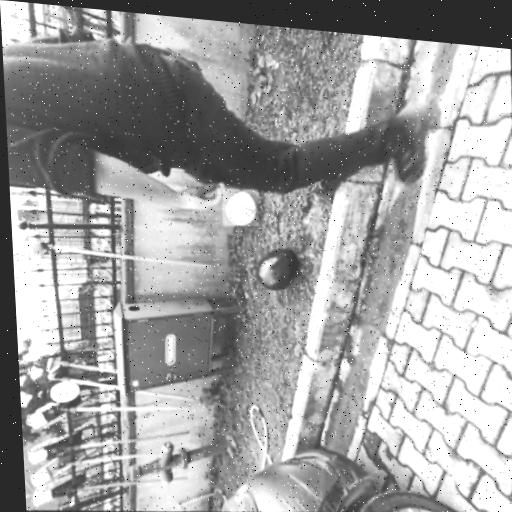balloon: (254, 248, 301, 297), (223, 190, 262, 233)
